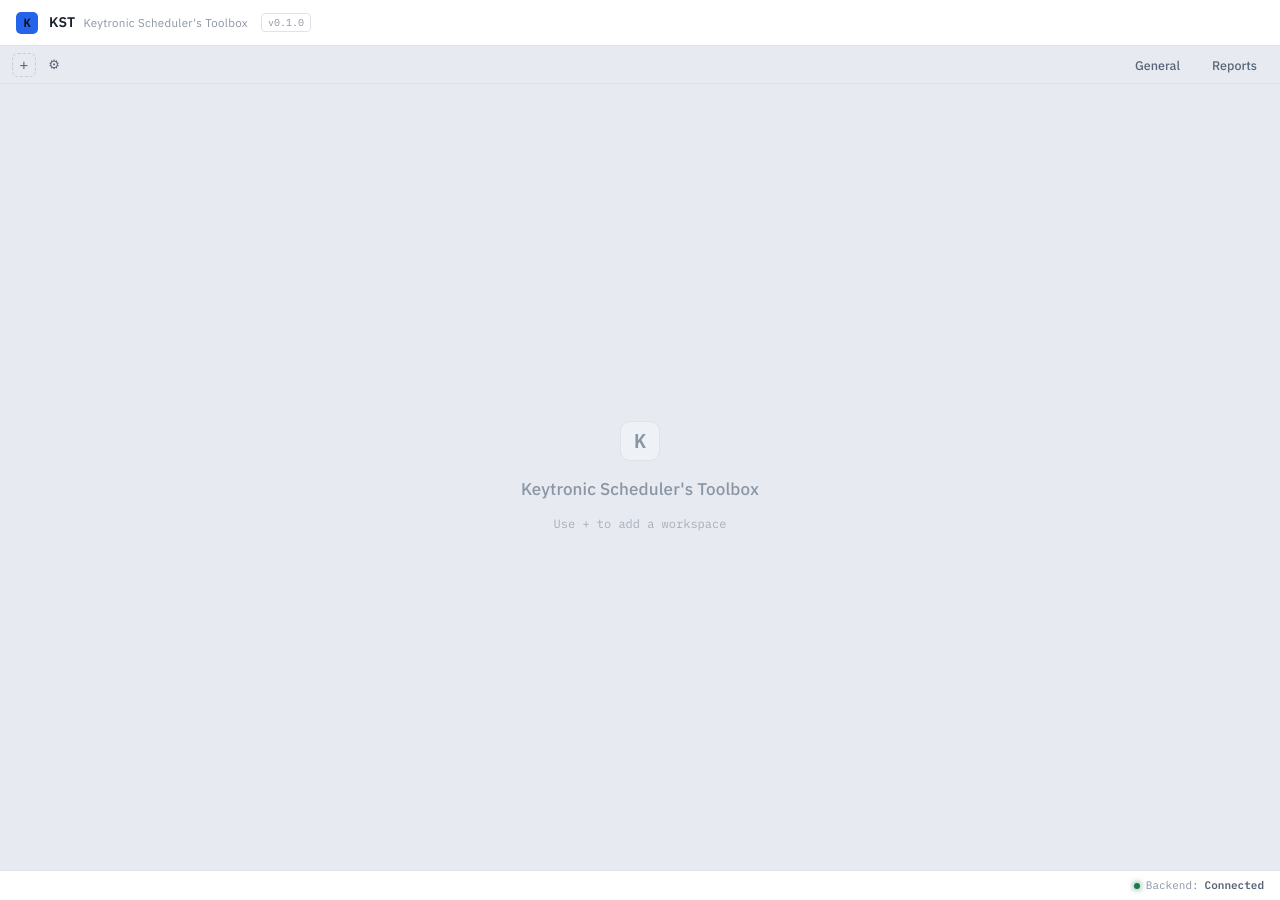
it: General workspace › adds and removes a fiscal year exception, persisting it locally
The image size is (1280, 900).
Check: the text "Backend:" reads "Backend: Connected", box [1134, 877, 1264, 894]
Click the tab "General" at (1158, 64), box [1120, 50, 1195, 78]
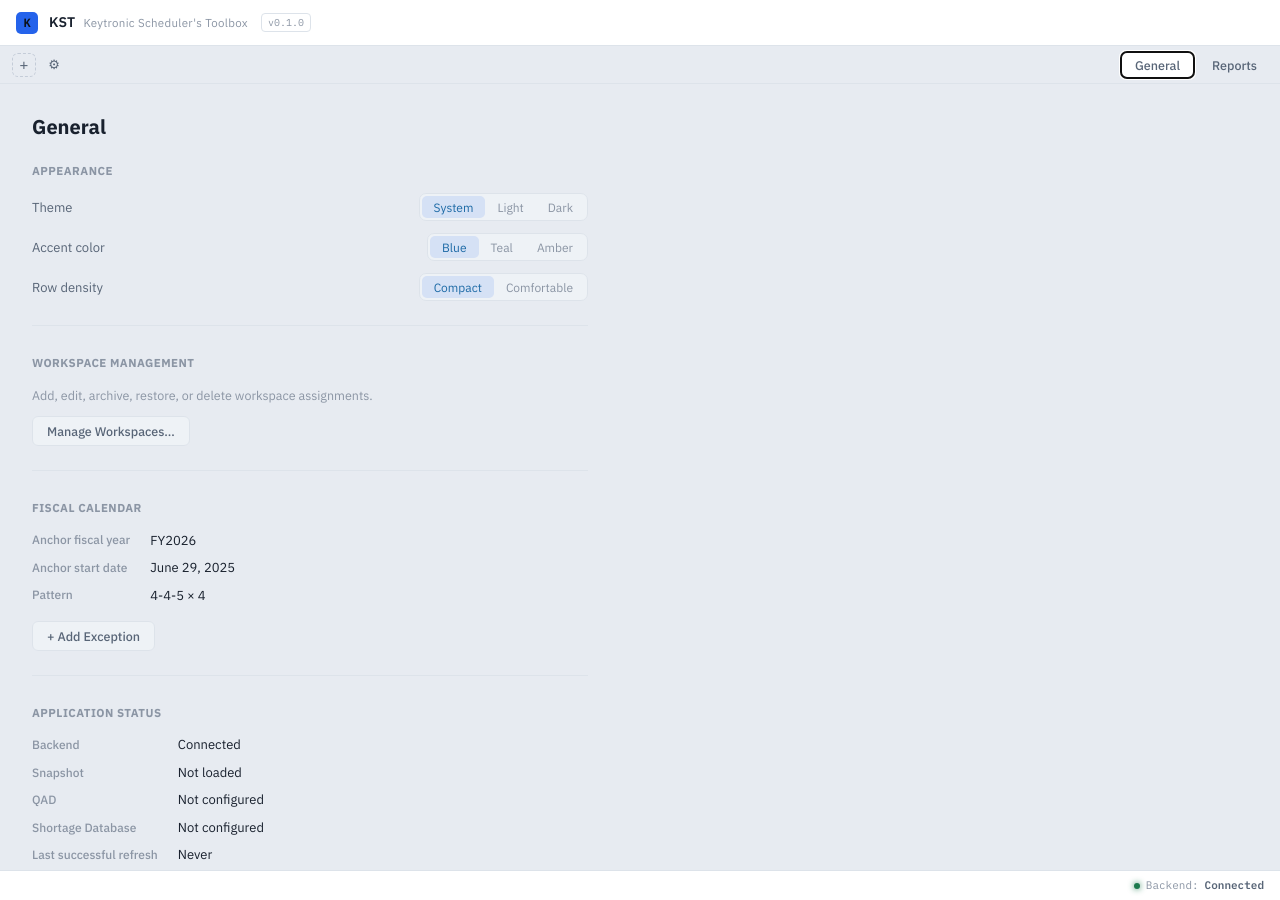
Click the button "+ Add Exception" at (94, 636), box [32, 621, 155, 651]
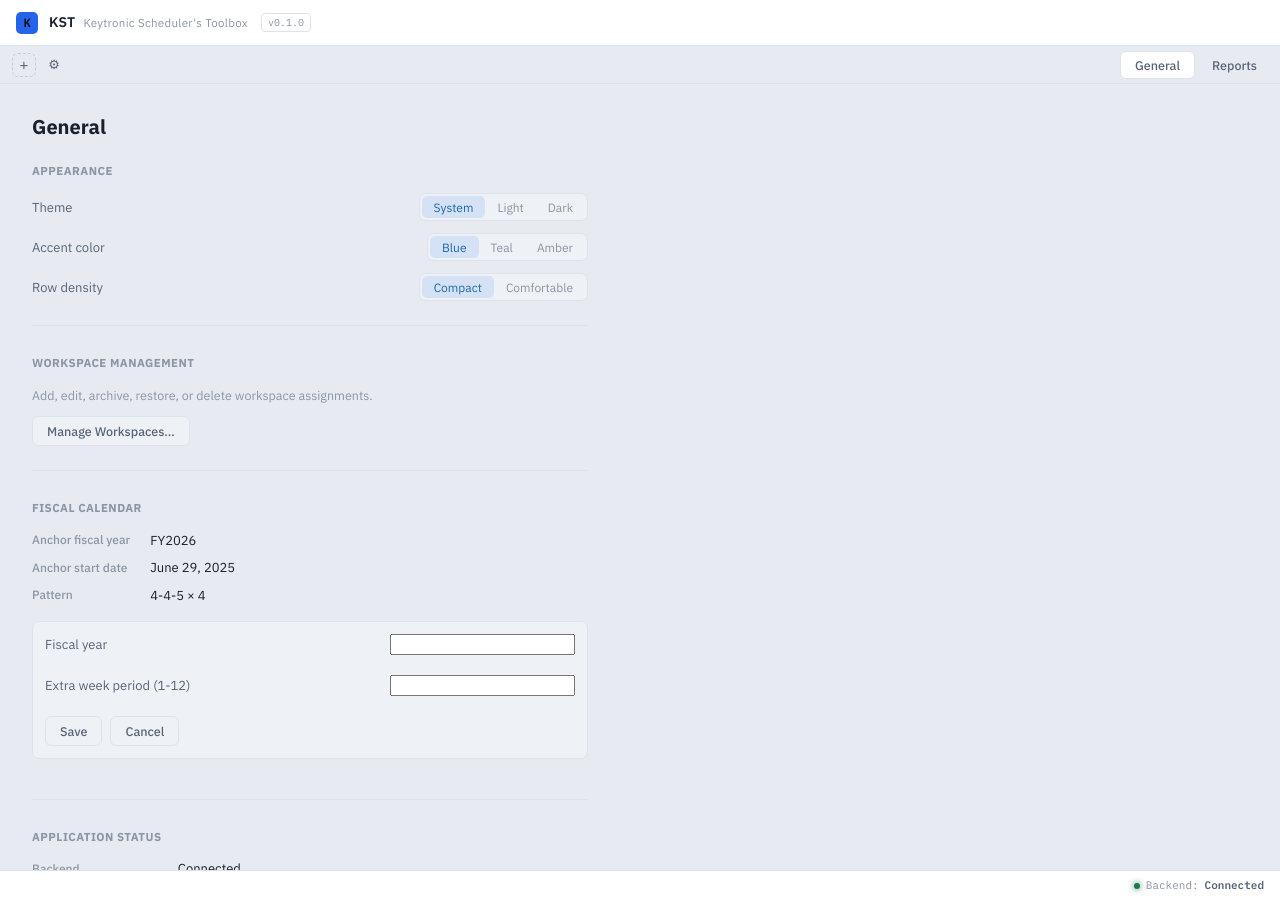
Type "2027" into the number field labelled "Fiscal year" at (482, 644), box [390, 634, 575, 655]
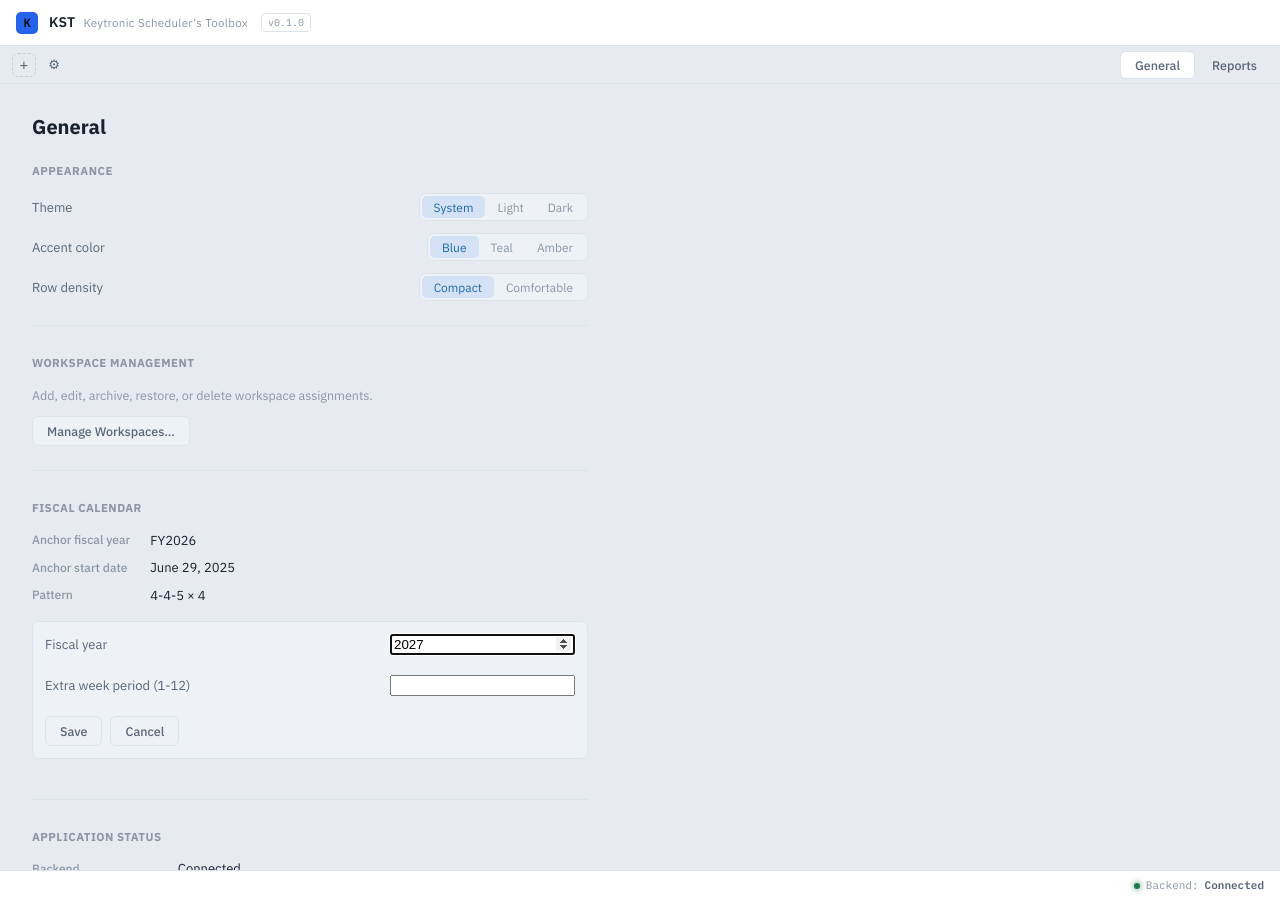
Type "4" into the number field labelled "Extra week period (1-12)" at (482, 686), box [390, 675, 575, 696]
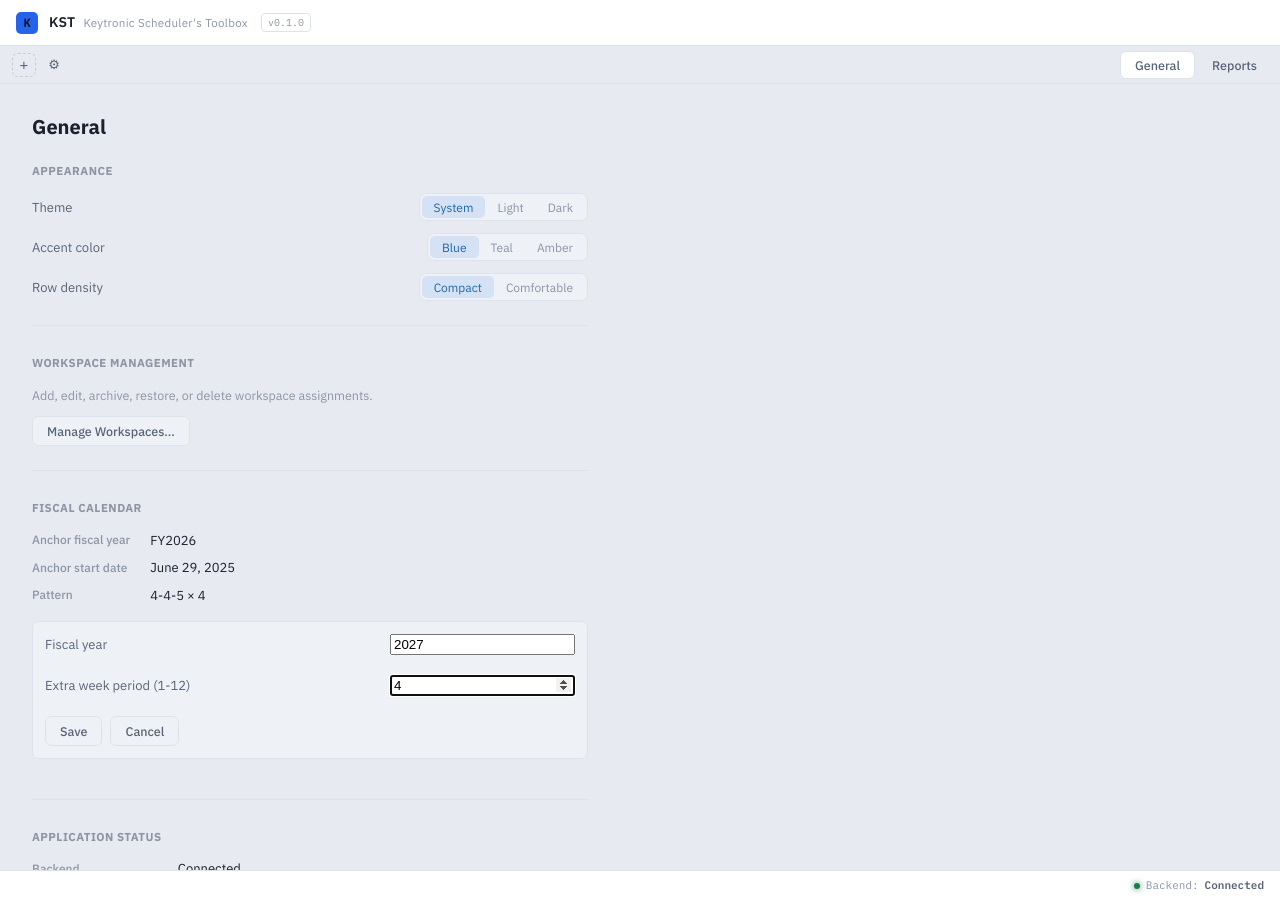
Click the button "Save" at (74, 731), box [45, 716, 102, 746]
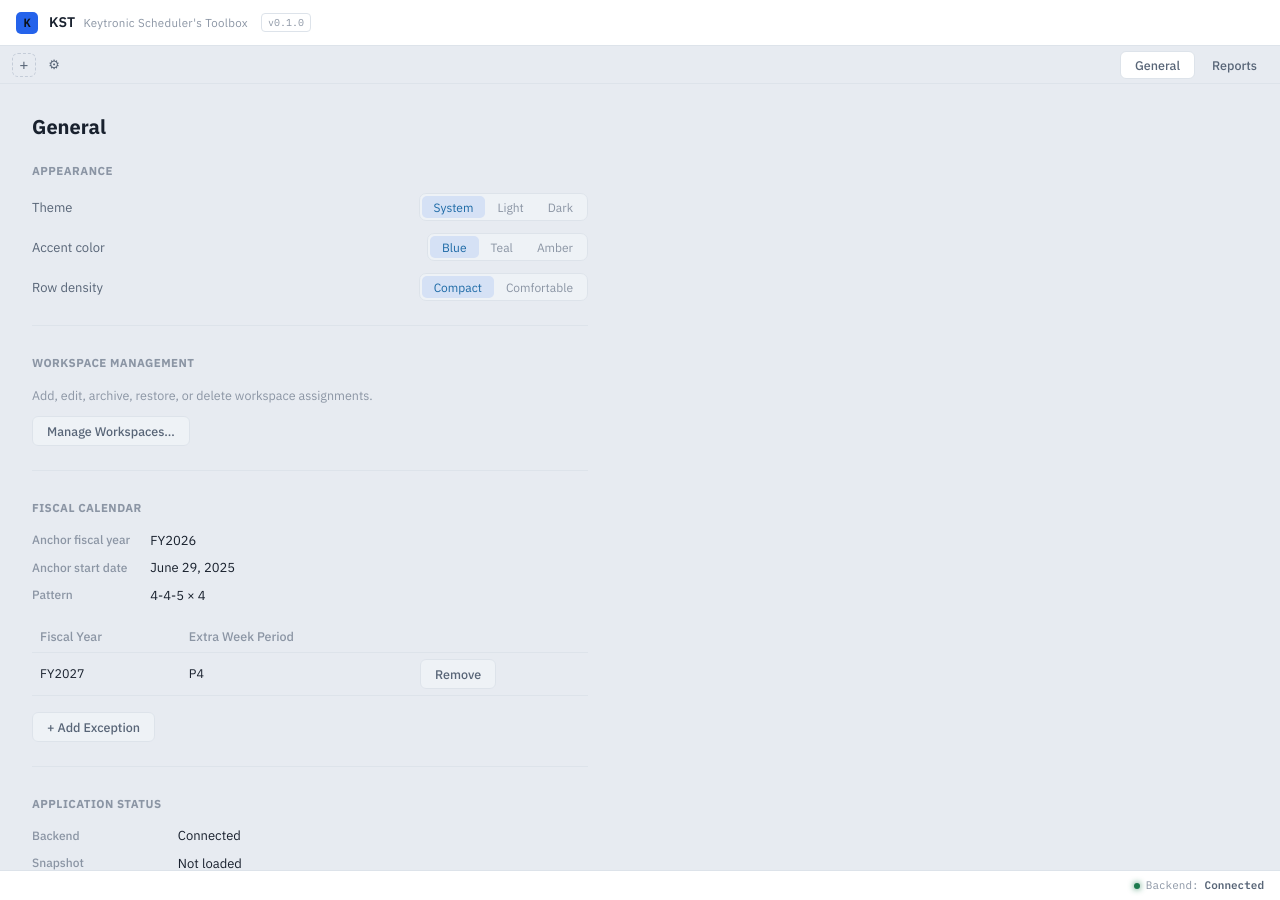
Check: the text "FY2027" is shown, box [32, 652, 181, 695]
Check: the text "P4" is shown, box [181, 652, 412, 695]
Click the button with aria-label "remove fy2027 exception" at (458, 674), box [420, 659, 496, 689]
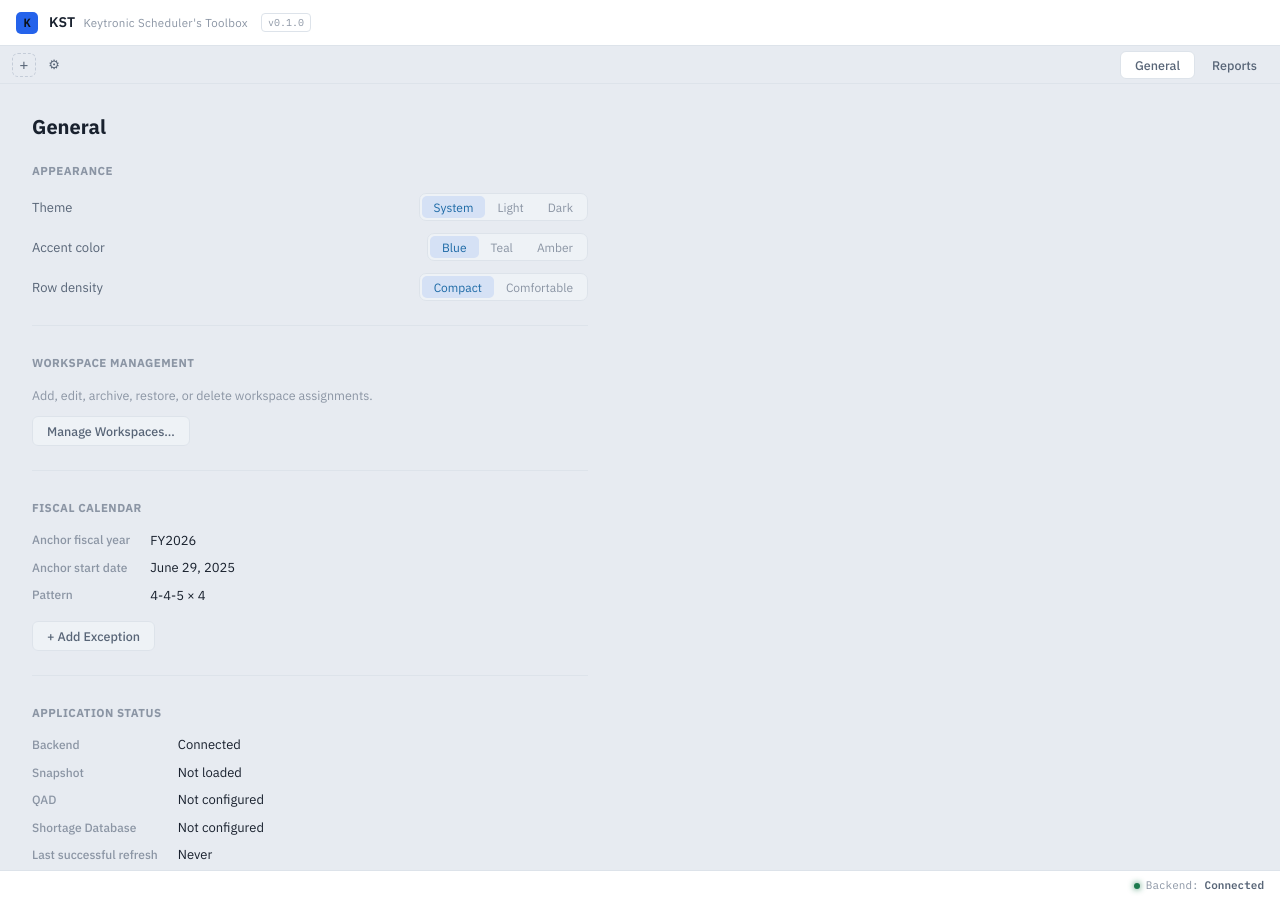
Check: the text "FY2027" is gone
